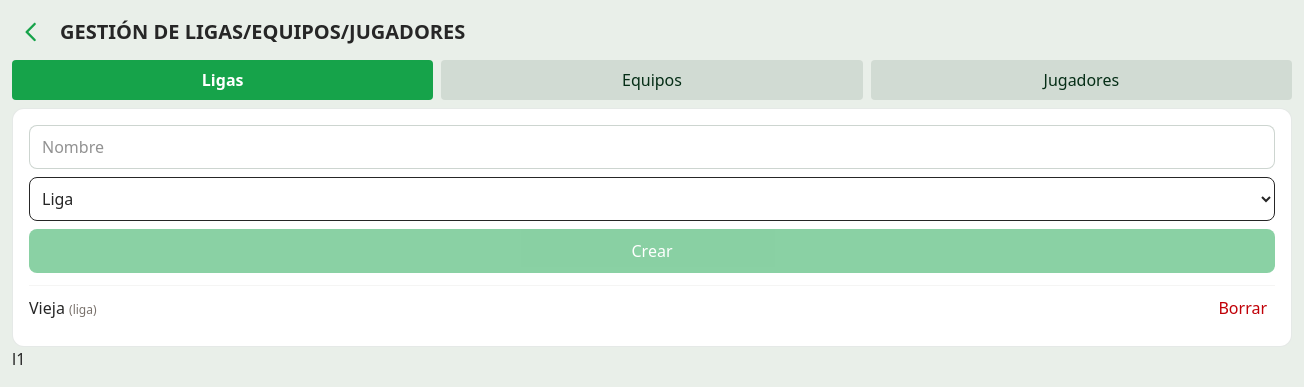
misLigas tras crear liga › crear liga la agrega a la sesion y persiste
In the field named "Nombre de liga": coordinates (652, 147) [29,125,1275,169], type "Nueva"
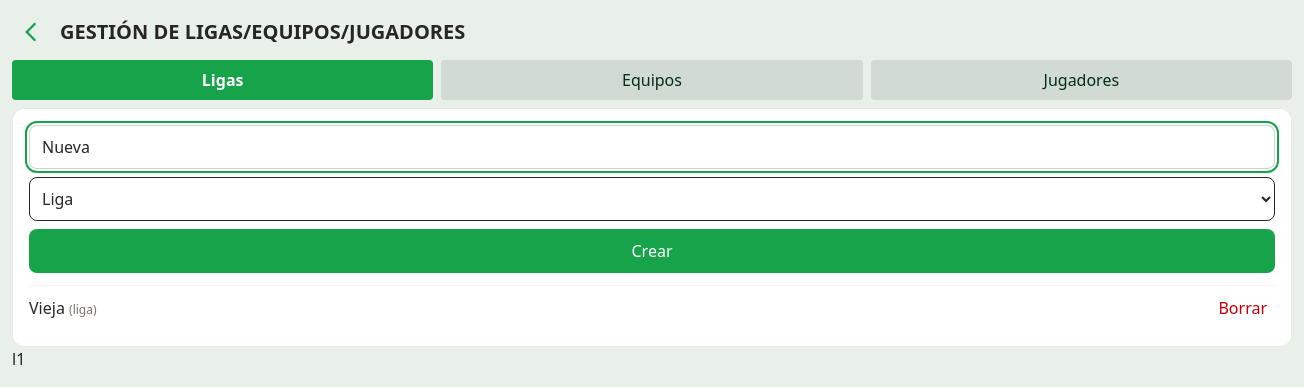
Click the button "Crear": coordinates (652, 251) [29,229,1275,273]
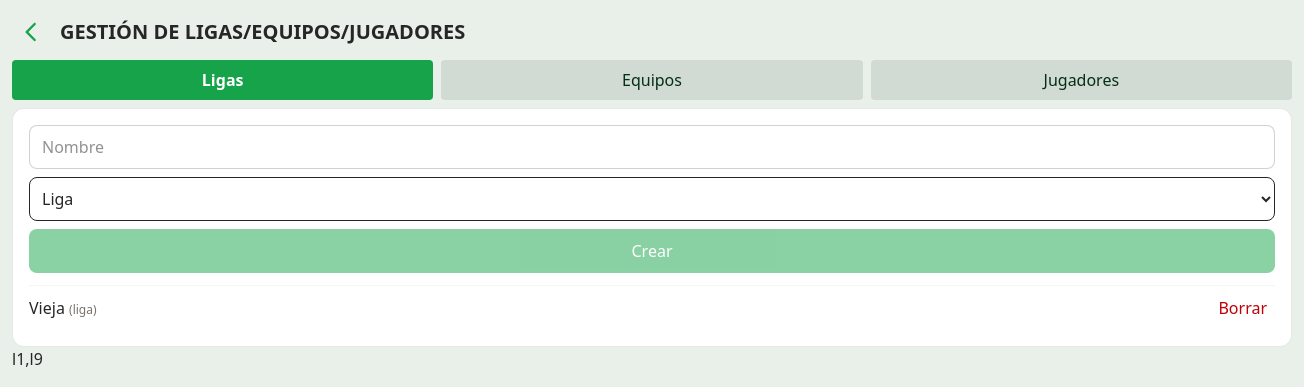
Now the text with test id "ligas" reads "l1,l9", box [12,348,43,370]
